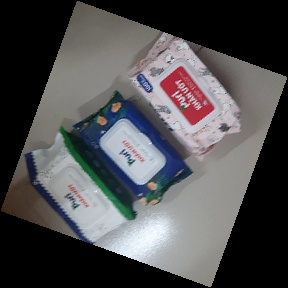Puri Trang: (24, 126, 137, 248)
Puri Xanh: (73, 90, 194, 215)
Puri hong: (120, 31, 243, 160)
